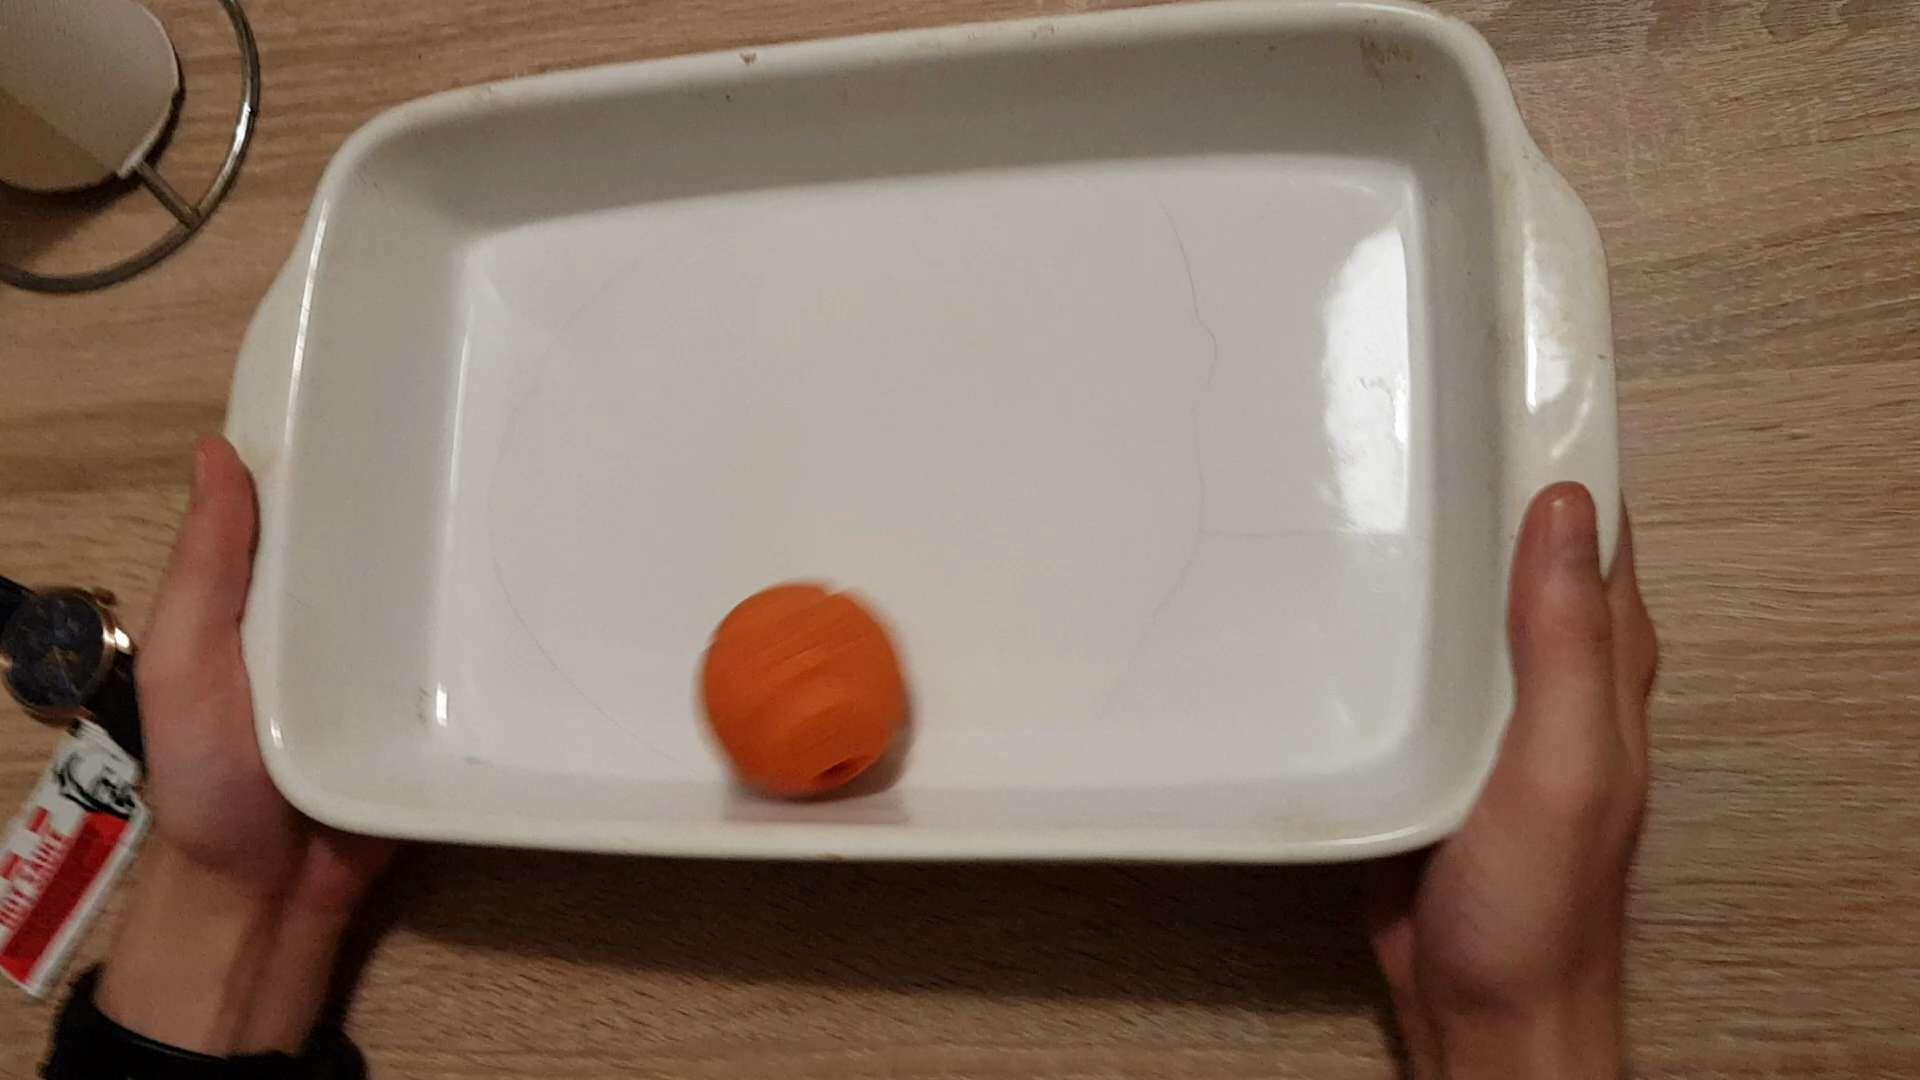sphere: (682, 579, 923, 806)
